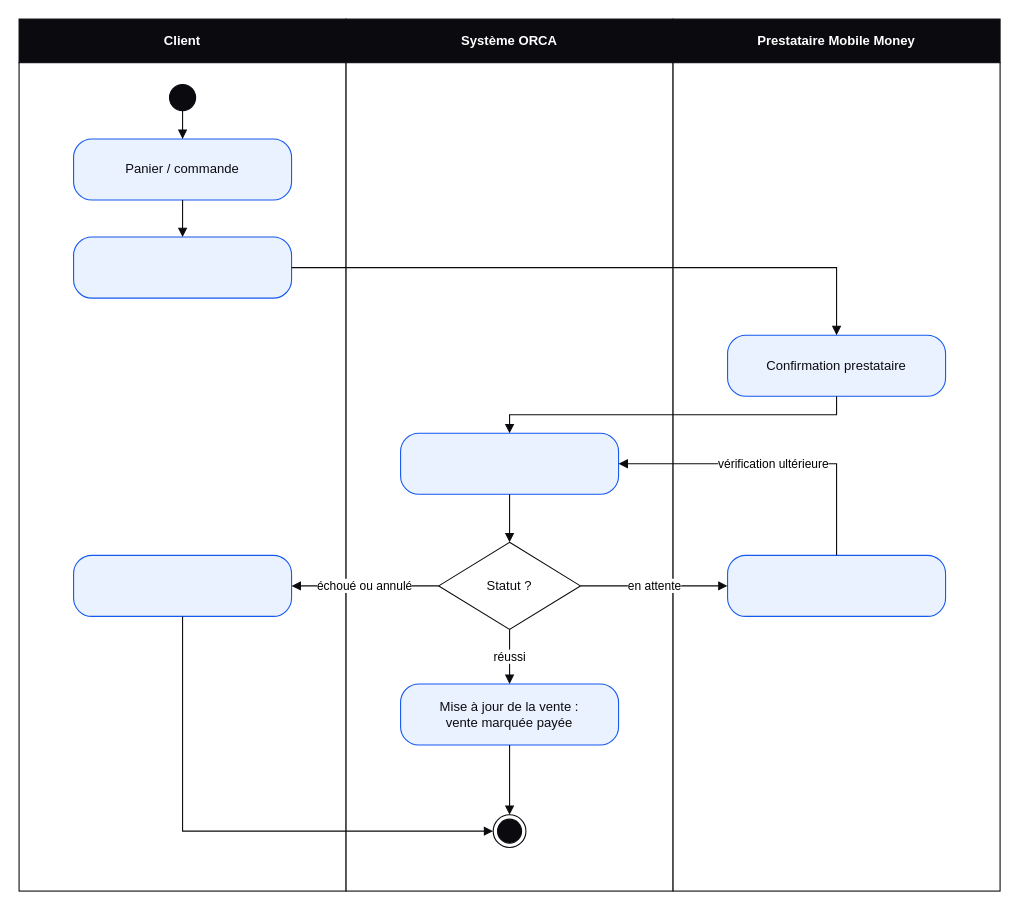
Image size: 1019x910. Some labels were removed from this diagram. The centre of each missing label's shape, as x and y in pixels:
"Choix Mobile Money" belongs at point 182,267.
"La vente reste non payée ; message clair affiché" belongs at point 182,585.
"Statut conservé en attente ; vérification ultérieure" belongs at point 836,585.
"Vérification du statut" belongs at point 509,463.
